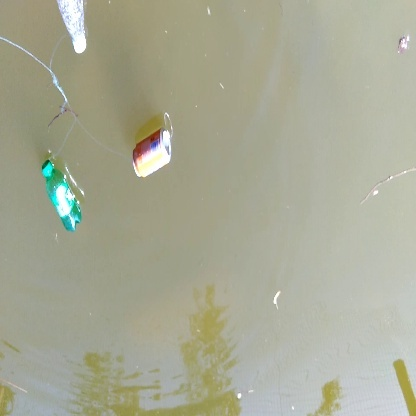bottle: (38, 159, 92, 234), (130, 130, 178, 182), (53, 1, 95, 57)
